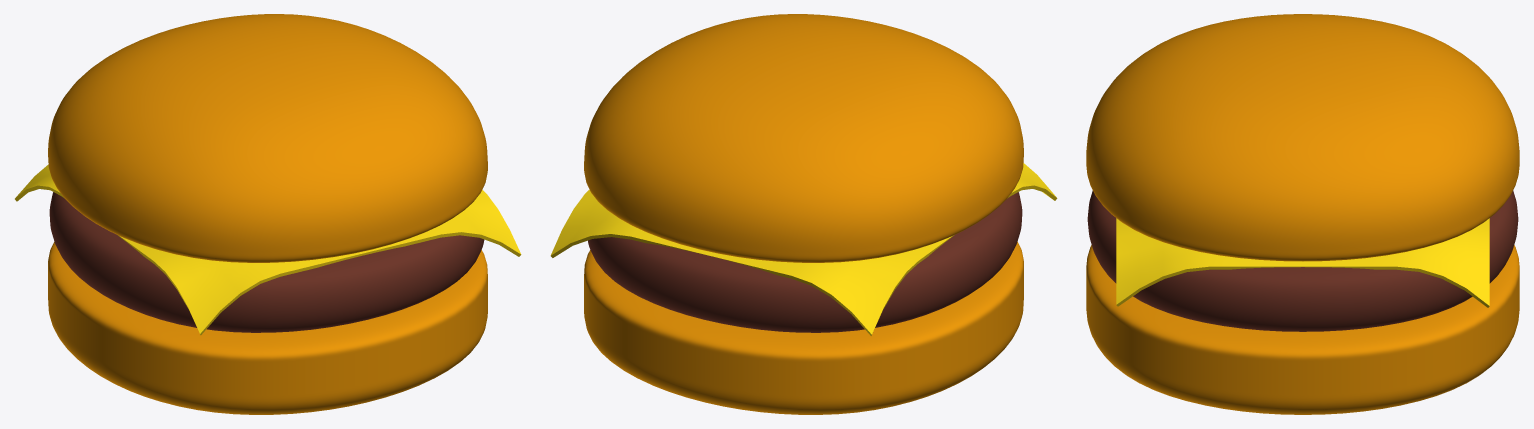
The model's file is hamburger.glb.
3 renders of one model, left to right at view 1: azimuth 30°, elevation 25°; view 2: azimuth 150°, elevation 25°; view 3: azimuth 270°, elevation 25°, orthographic.
Parts seen in each view (by area): view 1: Cube.002, Cube, Cube.001, Plane; view 2: Cube.002, Cube, Cube.001, Plane; view 3: Cube.002, Cube, Cube.001, Plane.
Boxes of the visible parts, box(x1,y1,x2,y2) form: Cube.002: box(48, 14, 487, 262); Cube: box(48, 242, 487, 414); Cube.001: box(49, 192, 484, 332); Plane: box(15, 164, 521, 335); Cube.002: box(584, 14, 1023, 262); Cube: box(584, 242, 1023, 414); Cube.001: box(588, 192, 1022, 332); Plane: box(550, 163, 1057, 335); Cube.002: box(1086, 14, 1519, 261); Cube: box(1086, 245, 1519, 414); Cube.001: box(1087, 190, 1518, 331); Plane: box(1116, 218, 1489, 307).
Size of the model in its own units: 9.02 by 6.75 by 9.02.
